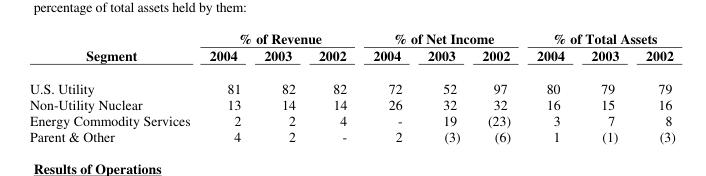table: (29, 28, 674, 144)
table column: (29, 28, 199, 144), (414, 28, 470, 144), (251, 28, 306, 144), (359, 28, 414, 144), (523, 28, 577, 144), (577, 28, 631, 144), (306, 28, 359, 144), (470, 28, 523, 144), (199, 28, 251, 144), (631, 28, 674, 144)
table column header: (29, 28, 674, 71)
table row: (29, 46, 674, 71), (29, 71, 674, 95), (29, 28, 674, 46), (29, 127, 674, 144), (29, 95, 674, 111), (29, 111, 674, 127)
table spanning cell: (29, 28, 199, 71), (359, 28, 523, 46), (199, 28, 359, 46), (523, 28, 674, 46)
